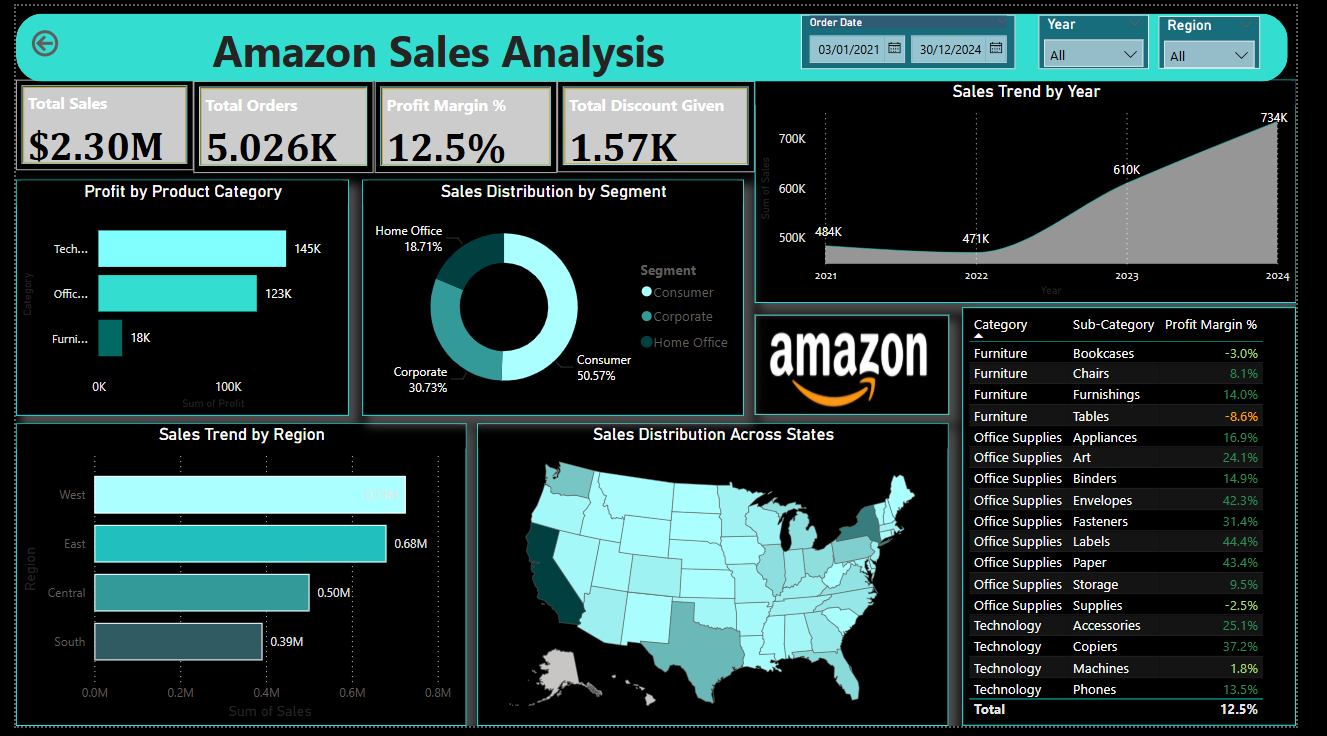

The dashboard page shown, as its layout file describes it:
{"tool":"powerbi","page":{"name":"Sales Analysis","canvas":[1280,720],"ordinal":0},"visuals":[{"type":"cardVisual","title":"Total ","fields":{"Data":["Sum(Sales Overview Data xlsx - Sales Data.Sales)"]},"box":[0,73.3,177.9,90.7],"z":0},{"type":"cardVisual","fields":{"Data":["Sales Overview Data xlsx - Sales Data.Profit Margin %"]},"box":[358.1,74.4,182.6,91.9],"z":1000},{"type":"cardVisual","fields":{"Data":["Sum(Sales Overview Data xlsx - Sales Data.Discount)"]},"box":[540.9,75,197.7,90.9],"z":2000},{"type":"cardVisual","fields":{"Data":["Count(Sales Overview Data xlsx - Sales Data.Order ID)"]},"box":[177.9,74.4,180.2,91.9],"z":3000},{"type":"lineChart","title":"Sales Trend by Year","fields":{"Category":["Sales Overview Data xlsx - Sales Data.Order Date.Variation.Date Hierarchy.Year"],"Y":["Sum(Sales Overview Data xlsx - Sales Data.Sales)"]},"box":[738.4,73.3,541.9,223.3],"z":4000},{"type":"barChart","title":"Profit by Product Category\t","fields":{"Category":["Sales Overview Data xlsx - Sales Data.Category"],"Y":["Sum(Sales Overview Data xlsx - Sales Data.Profit)"]},"box":[0,173.3,332.6,236],"z":5000},{"type":"barChart","title":"Sales Trend by Region","fields":{"Category":["Sales Overview Data xlsx - Sales Data.Region"],"Y":["Sum(Sales Overview Data xlsx - Sales Data.Sales)"]},"box":[0,417.4,450,302.3],"z":6000},{"type":"shape","box":[0,7.1,1271.8,68.2],"z":7000},{"type":"slicer","title":"Region","fields":{"Values":["Sales Overview Data xlsx - Sales Data.Region"]},"box":[1142.9,10.1,101.4,53],"z":8000},{"type":"image","box":[738.4,309.3,194.2,100],"z":9000},{"type":"slicer","fields":{"Values":["Sales Overview Data xlsx - Sales Data.Order Date.Variation.Date Hierarchy.Year"]},"box":[1022.3,9,110.5,54.1],"z":10000},{"type":"slicer","fields":{"Values":["Sales Overview Data xlsx - Sales Data.Order Date"]},"box":[785.6,9,214.2,54.1],"z":12000},{"type":"actionButton","box":[11.1,18.9,35.6,36.7],"z":13000},{"type":"tableEx","fields":{"Values":["Sales Overview Data xlsx - Sales Data.Category","Sales Overview Data xlsx - Sales Data.Sub-Category","Sales Overview Data xlsx - Sales Data.Profit Margin %"]},"box":[946.8,300.9,333.6,418.2],"z":14000},{"type":"shapeMap","title":"\tSales Distribution Across States","fields":{"Category":["Sales Overview Data xlsx - Sales Data.State/Province"],"Value":["Sum(Sales Overview Data xlsx - Sales Data.Sales)"]},"box":[461.6,417.4,470.9,302.3],"z":15000},{"type":"donutChart","title":"Sales Distribution by Segment\t","fields":{"Category":["Sales Overview Data xlsx - Sales Data.Segment"],"Y":["Sum(Sales Overview Data xlsx - Sales Data.Sales)"]},"box":[346.5,173.3,381.4,236],"z":16000},{"type":"textbox","box":[105.9,10.6,632.9,78.8],"z":16001}]}

Visuals, with their boxes in screenshot pixels (x1, y1, x2, y2), scaled from the page's 1280x720 canvas onto the 1327x736 screenshot:
"Total " cardVisual: [0, 75, 184, 168]
cardVisual - Sales Overview Data xlsx - Sales Data.Profit Margin %: [371, 76, 561, 170]
cardVisual - Sum(Sales Overview Data xlsx - Sales Data.Discount): [561, 77, 766, 170]
cardVisual - Count(Sales Overview Data xlsx - Sales Data.Order ID): [184, 76, 371, 170]
"Sales Trend by Year" lineChart: [766, 75, 1326, 303]
"Profit by Product Category	" barChart: [0, 177, 345, 418]
"Sales Trend by Region" barChart: [0, 427, 467, 735]
shape: [0, 7, 1318, 77]
"Region" slicer: [1185, 10, 1290, 65]
image: [766, 316, 967, 418]
slicer - Sales Overview Data xlsx - Sales Data.Order Date.Variation.Date Hierarchy.Year: [1060, 9, 1174, 65]
slicer - Sales Overview Data xlsx - Sales Data.Order Date: [814, 9, 1037, 65]
actionButton: [12, 19, 48, 57]
tableEx - Sales Overview Data xlsx - Sales Data.Category x Sales Overview Data xlsx - Sales Data.Sub-Category: [982, 308, 1326, 735]
"	Sales Distribution Across States" shapeMap: [479, 427, 967, 735]
"Sales Distribution by Segment	" donutChart: [359, 177, 755, 418]
textbox: [110, 11, 766, 91]
